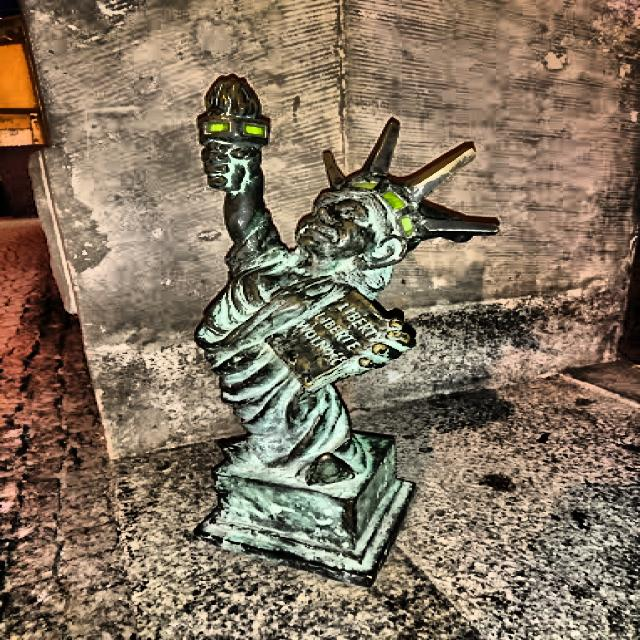LadyWolnosc: (195, 75, 499, 584)
